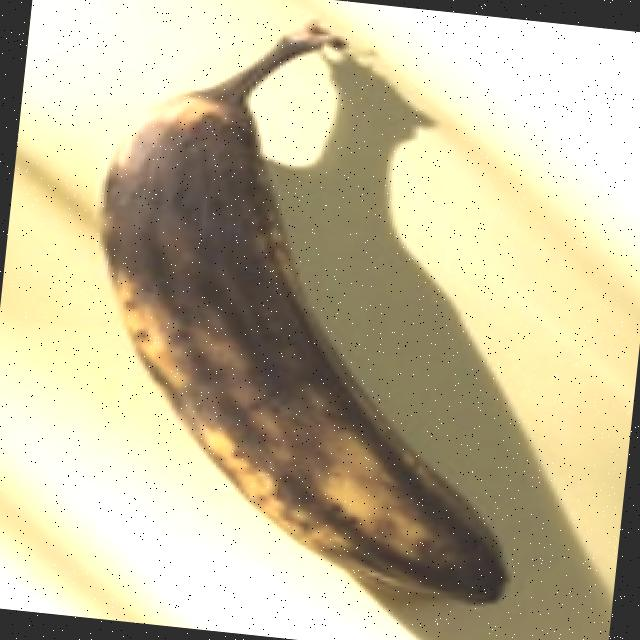Rotten: (49, 0, 583, 623)
